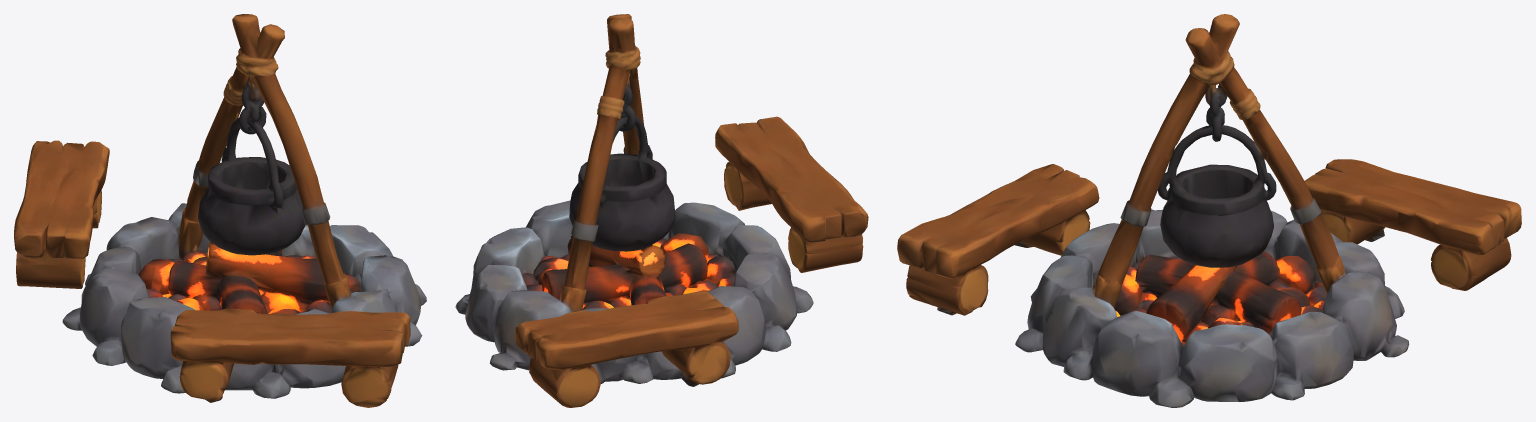
File: campfire-C78cf_fR.glb
3 views of the same model, side by side, from view 1: azimuth 30°, elevation 25°; view 2: azimuth 150°, elevation 25°; view 3: azimuth 270°, elevation 25° (orthographic). The views are drawn at different scales.
Parts seen in each view (by area): view 1: tripo_node_51990a7c-8467-4d99-a35d-ec5b6c0d0d67; view 2: tripo_node_51990a7c-8467-4d99-a35d-ec5b6c0d0d67; view 3: tripo_node_51990a7c-8467-4d99-a35d-ec5b6c0d0d67.
Part boxes in pixels (x1,y1,x2,y2): tripo_node_51990a7c-8467-4d99-a35d-ec5b6c0d0d67: [14, 14, 426, 407]; tripo_node_51990a7c-8467-4d99-a35d-ec5b6c0d0d67: [455, 14, 868, 407]; tripo_node_51990a7c-8467-4d99-a35d-ec5b6c0d0d67: [897, 14, 1521, 407].
Bounding box in the file's own units: 0.6284 × 0.5536 × 1.
Materials: 1 (1 with a texture image).
